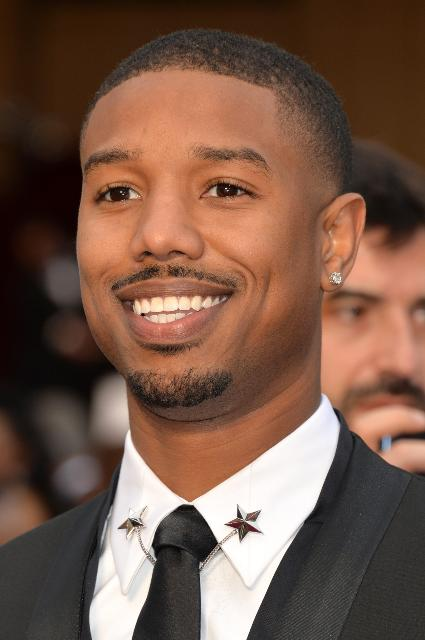gummy_smile: (227, 254, 269, 298), (86, 266, 112, 298)
